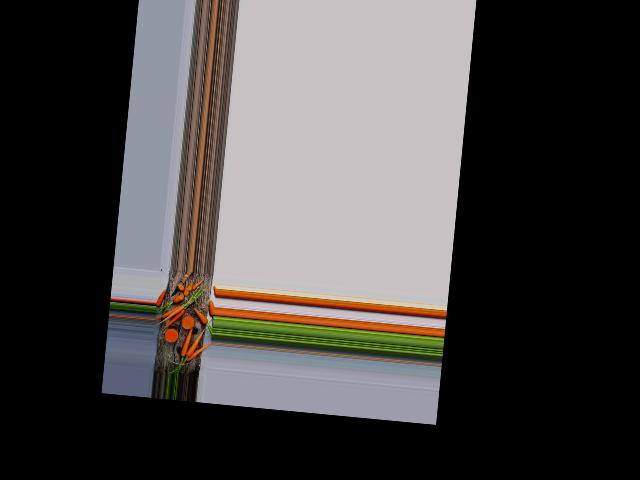carrot: (184, 337, 210, 368)
